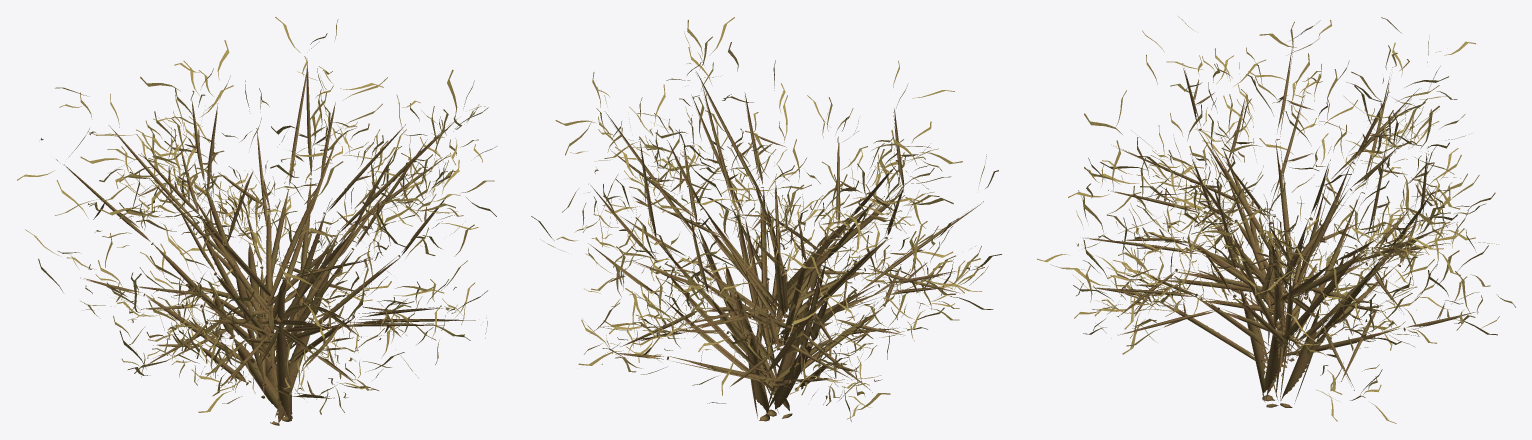
The model's file is BUSH_03_Dark_Lance.glb.
3 renders of one model, left to right at view 1: azimuth 30°, elevation 25°; view 2: azimuth 150°, elevation 25°; view 3: azimuth 270°, elevation 25°, orthographic. The views are drawn at different scales.
Parts seen in each view (by area): view 1: BUSH_03_Dark_Lance__WoodyStems, BUSH_03_Dark_Lance__FoliageCards; view 2: BUSH_03_Dark_Lance__WoodyStems, BUSH_03_Dark_Lance__FoliageCards; view 3: BUSH_03_Dark_Lance__WoodyStems, BUSH_03_Dark_Lance__FoliageCards.
Part boxes in pixels (left/top/right/bottom): BUSH_03_Dark_Lance__WoodyStems: left=64, top=60, right=475, bottom=425; BUSH_03_Dark_Lance__FoliageCards: left=17, top=17, right=496, bottom=414; BUSH_03_Dark_Lance__WoodyStems: left=588, top=71, right=983, bottom=421; BUSH_03_Dark_Lance__FoliageCards: left=531, top=17, right=1001, bottom=421; BUSH_03_Dark_Lance__WoodyStems: left=1082, top=41, right=1478, bottom=407; BUSH_03_Dark_Lance__FoliageCards: left=1037, top=16, right=1515, bottom=423.
Bounding box in the file's own units: 1.33 × 1.06 × 1.32.
1 material, 1 textured.
